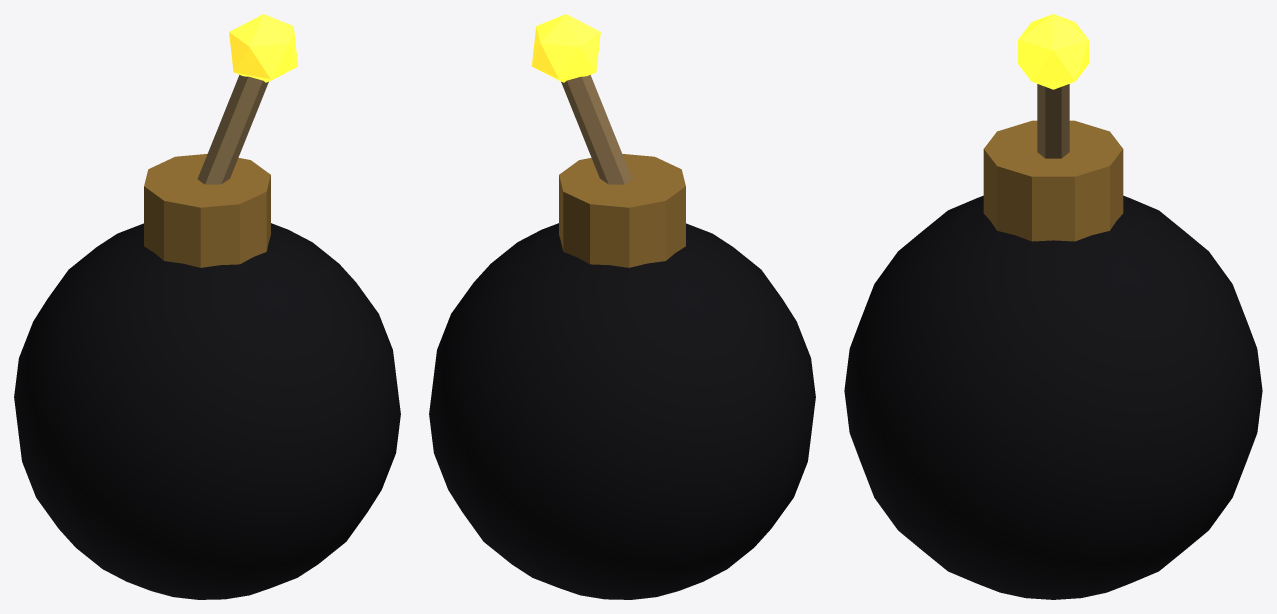
Rendered from bomb.glb.
3 renders of one model, left to right at view 1: azimuth 30°, elevation 25°; view 2: azimuth 150°, elevation 25°; view 3: azimuth 270°, elevation 25°, orthographic. The views are drawn at different scales.
Visible parts, largest first — view 1: bomb; view 2: bomb; view 3: bomb.
Boxes of the visible parts, x1,y1,x2,y2 form: bomb: (14,14,400,599); bomb: (429,14,815,599); bomb: (844,14,1262,599).
Bounding box in the file's own units: 0.18 × 0.283 × 0.18.
